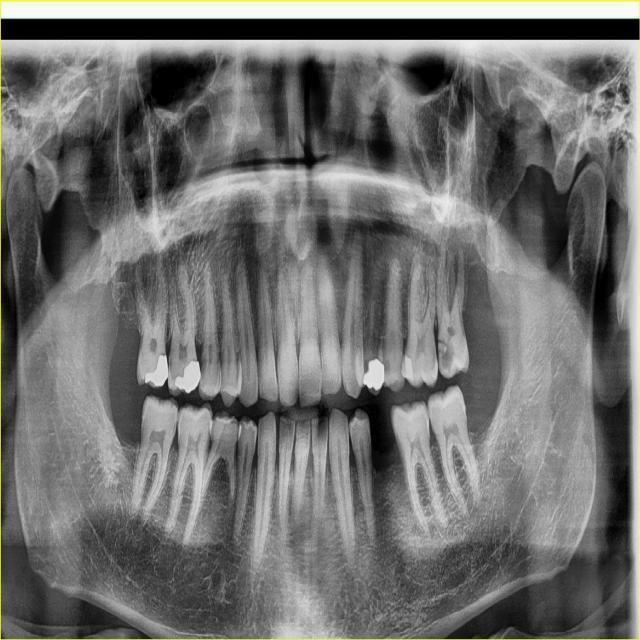Caries: (438, 338, 452, 372), (199, 353, 208, 383), (432, 342, 438, 368), (383, 358, 391, 375), (168, 355, 172, 373)
Filling: (175, 359, 200, 393), (145, 354, 168, 386), (363, 358, 384, 390), (401, 355, 414, 383)
Missing teeth: (369, 406, 400, 474)
